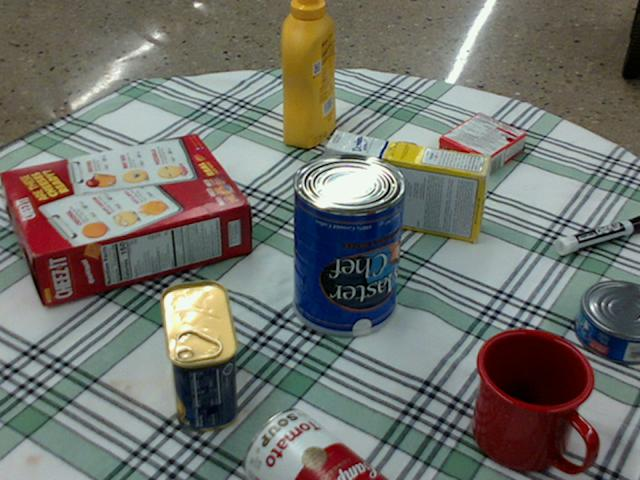cracker_box: (0, 135, 247, 304)
gelatin_box: (437, 113, 525, 177)
large_marker: (555, 216, 639, 254)
master_chef_can: (293, 153, 407, 335)
mug: (471, 329, 597, 471)
mustard_bottle: (280, 0, 334, 147)
potted_meat_can: (159, 280, 238, 430)
sugar_box: (322, 131, 491, 242)
tomato_soup_can: (243, 409, 384, 479)
tuna_fish_can: (575, 281, 639, 364)
